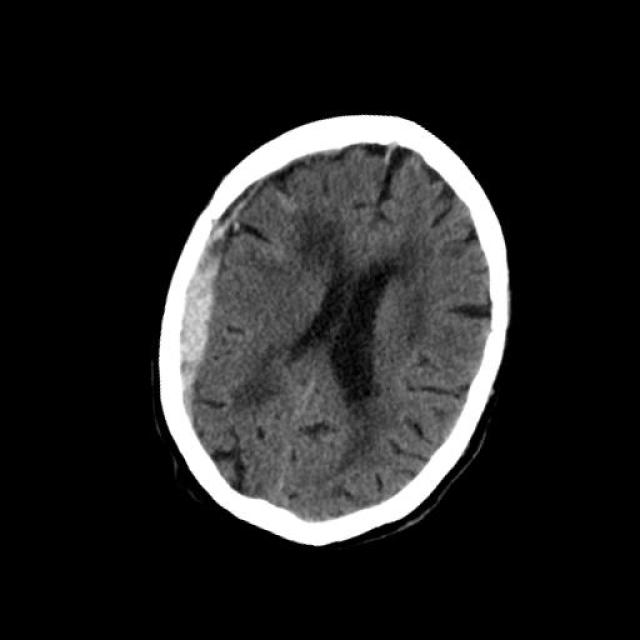Subdural: (118, 160, 290, 444)
